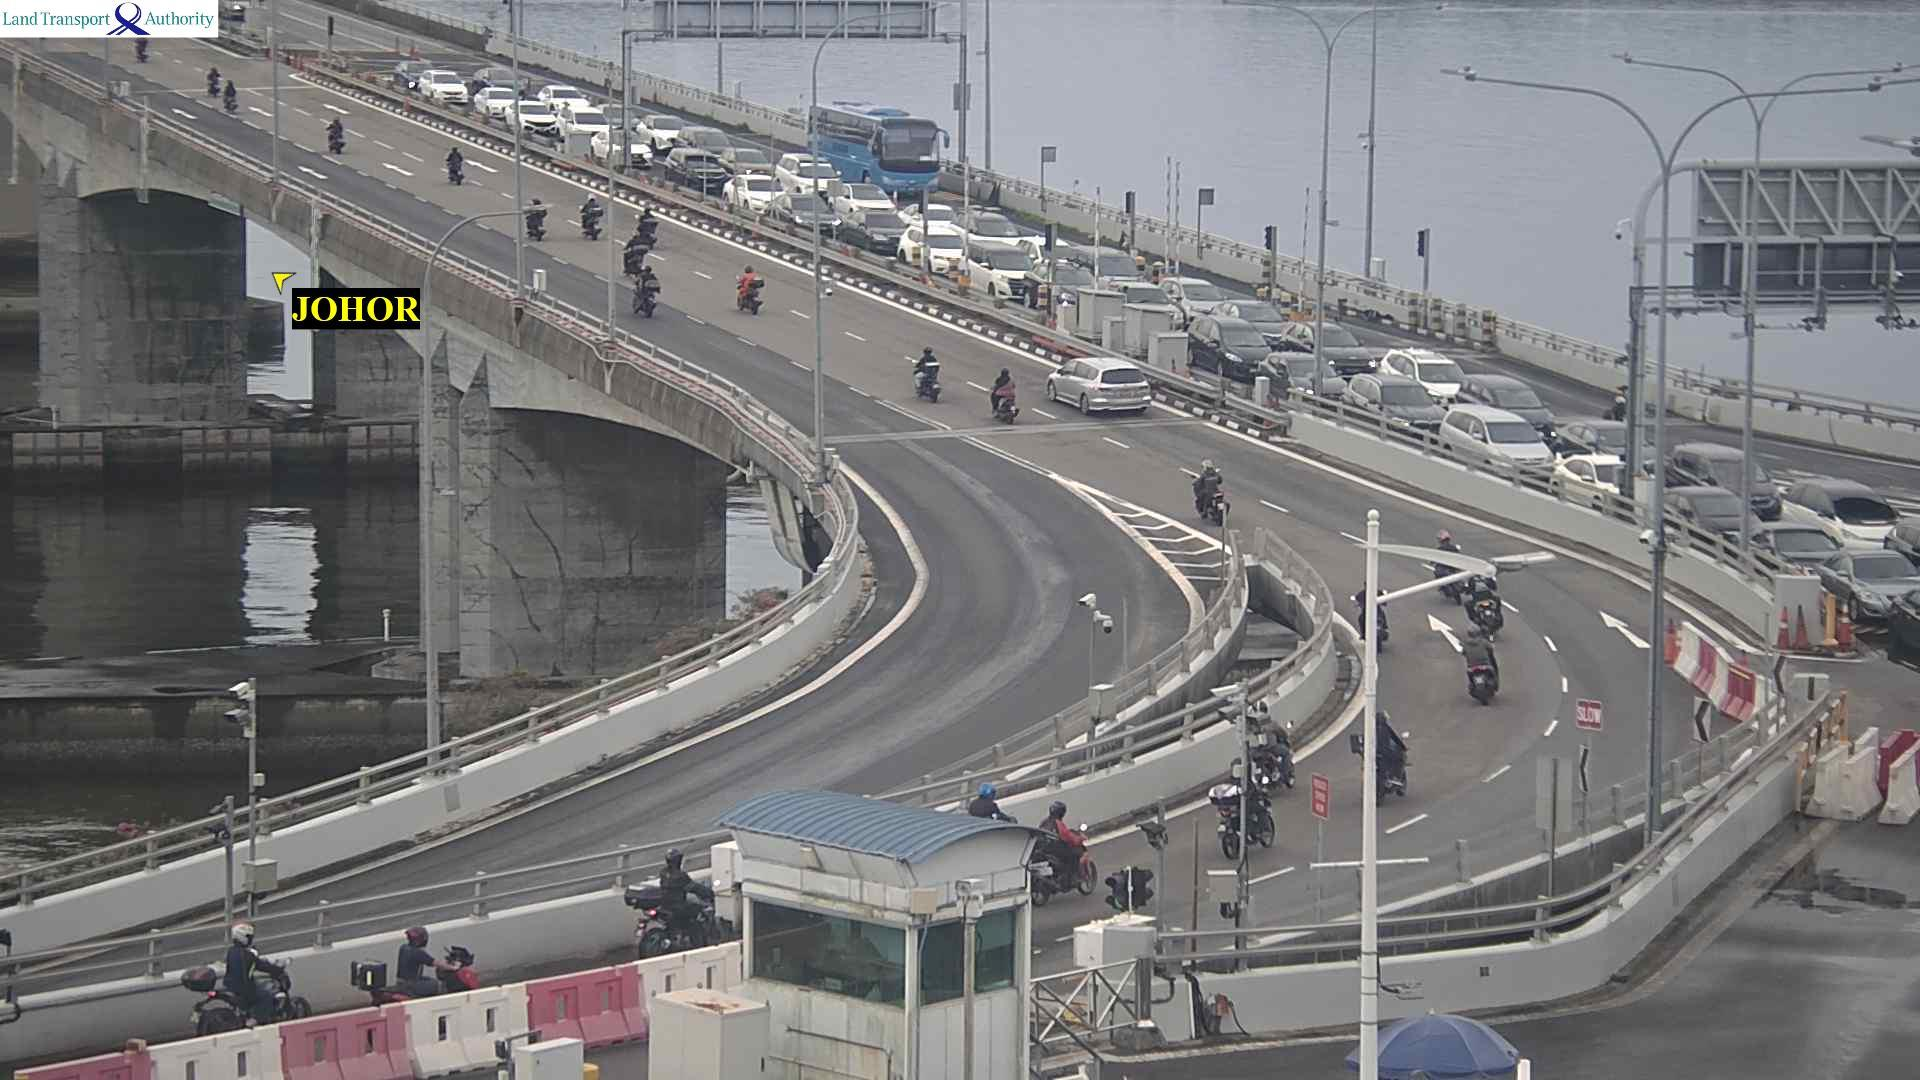vehicle-secondlink-johor: (178, 944, 312, 1035), (633, 864, 728, 960), (358, 930, 478, 1001), (1208, 761, 1278, 848), (1038, 803, 1100, 892), (1050, 360, 1149, 413), (1364, 700, 1408, 798), (1258, 698, 1294, 780), (1182, 466, 1233, 521), (1469, 562, 1509, 631), (1461, 649, 1509, 701), (1432, 524, 1465, 599), (908, 351, 947, 405), (730, 271, 769, 317), (1359, 580, 1388, 641), (965, 782, 1009, 821), (991, 365, 1015, 420), (636, 266, 660, 309), (526, 197, 546, 238), (445, 140, 463, 183), (326, 116, 345, 151), (627, 237, 643, 278), (586, 194, 601, 237), (225, 73, 241, 112), (641, 210, 659, 242), (203, 62, 218, 94), (133, 39, 151, 62)
vehicle-secondlink-singapore: (817, 101, 951, 182), (1666, 444, 1780, 516), (1198, 318, 1317, 379), (1832, 557, 1920, 633), (1790, 479, 1887, 540), (1443, 413, 1559, 464), (1342, 375, 1441, 433), (1659, 489, 1770, 538), (1459, 372, 1550, 431), (1553, 418, 1668, 464), (1286, 321, 1379, 375), (1734, 529, 1845, 571), (1190, 318, 1270, 376), (1550, 464, 1646, 506), (1027, 260, 1093, 320), (1384, 349, 1470, 395), (959, 244, 1055, 284), (959, 248, 1029, 299), (1260, 356, 1341, 399), (1072, 247, 1141, 292), (897, 230, 964, 273), (665, 151, 734, 191), (1220, 302, 1282, 344), (837, 217, 908, 251), (766, 196, 838, 229), (948, 211, 1018, 244), (1160, 274, 1218, 313), (557, 100, 609, 142), (829, 185, 898, 216), (592, 132, 653, 167), (779, 158, 850, 185), (721, 177, 782, 208), (503, 102, 558, 132), (670, 126, 733, 151), (419, 70, 467, 100), (471, 67, 523, 94), (540, 83, 588, 112), (641, 116, 683, 146), (726, 147, 776, 172), (896, 207, 953, 226), (395, 59, 431, 87), (475, 89, 516, 113)
